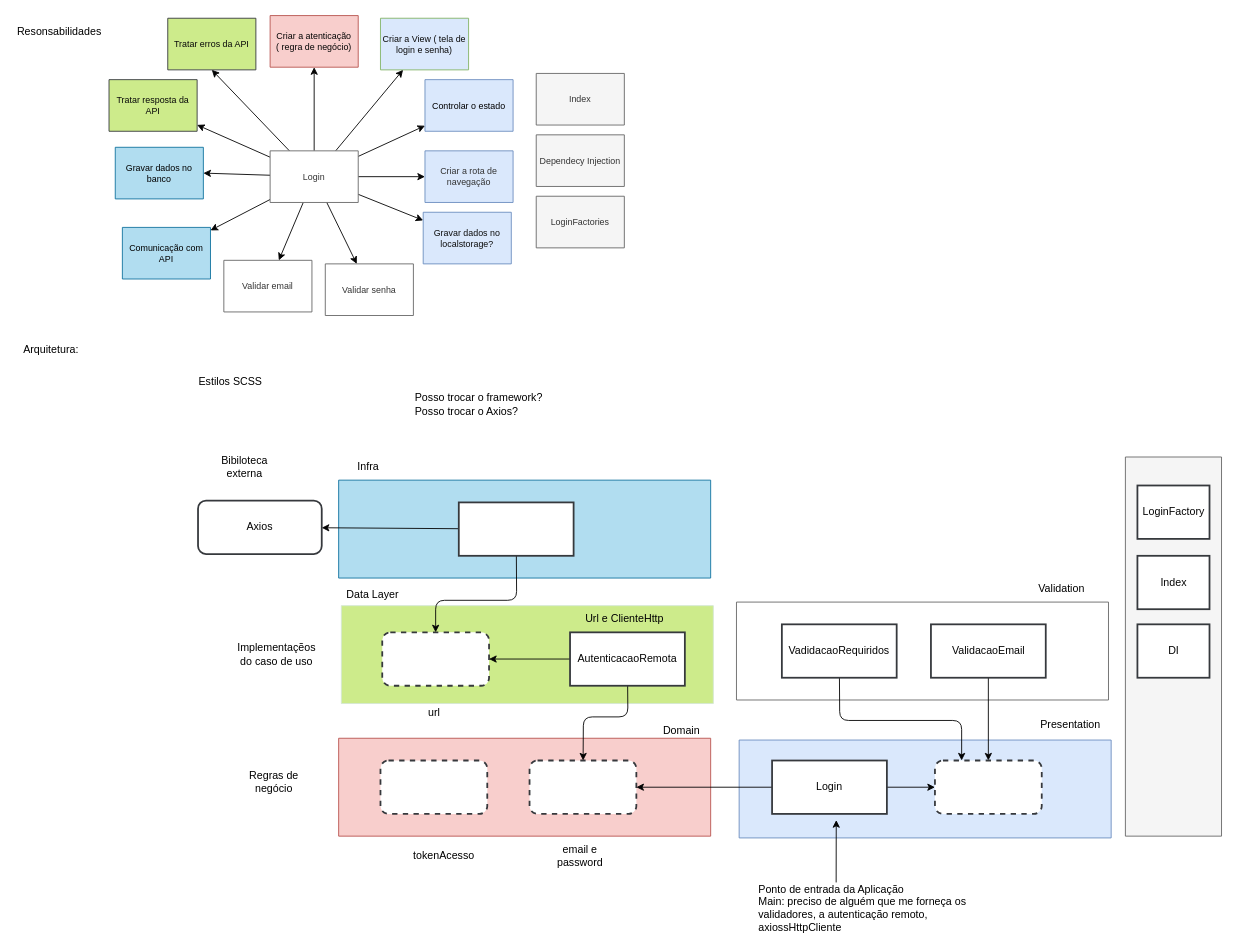
Some shapes in this 1237 by 950 pixel diagram are drawn without their labels. Here are the shapes that lost their labels. From the top down, the box of each, then its label:
(457, 501, 574, 556): AxiosHttpClient
(381, 631, 490, 686): HttpPostCliente
(379, 759, 488, 814): ContaModel
(528, 759, 637, 814): Autenticacao
(934, 759, 1042, 814): Validacao
